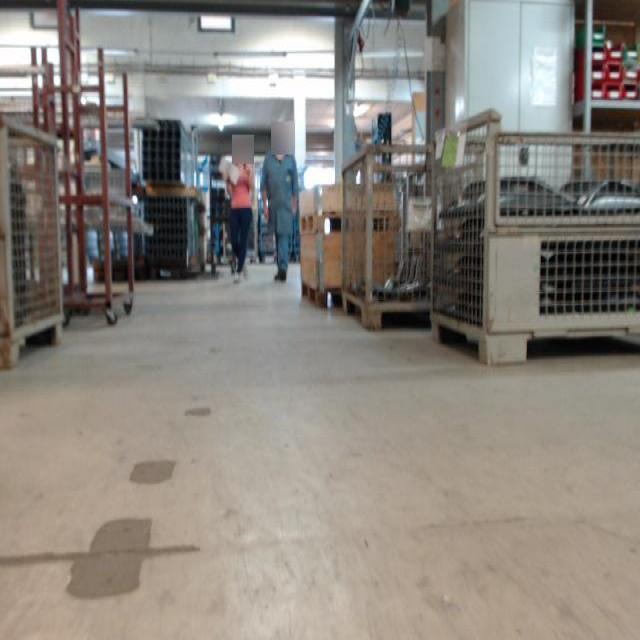pallet: (298, 211, 404, 238), (299, 279, 348, 313)
stillage: (423, 105, 639, 365), (330, 128, 435, 330), (1, 110, 66, 384)
